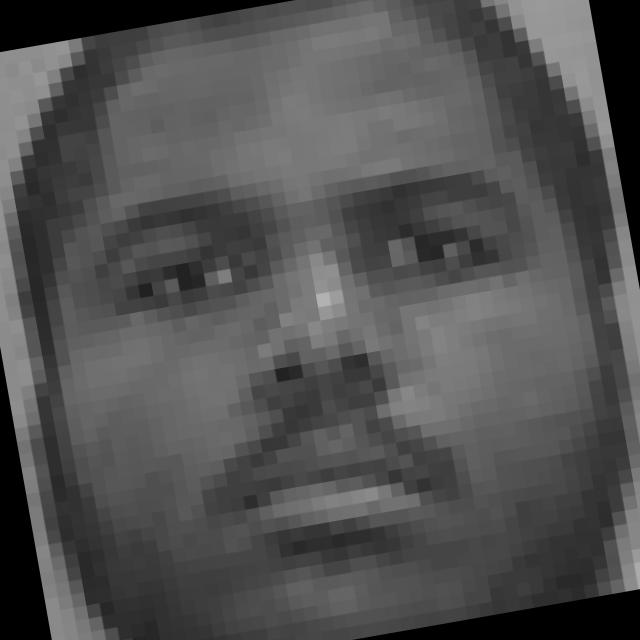neutral: (77, 131, 590, 606)
